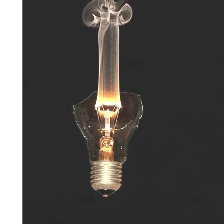light_bulb: (69, 79, 145, 202)
